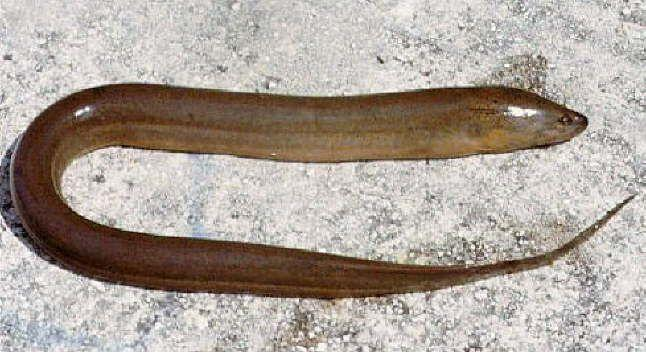Freshwater Eel: (10, 78, 637, 300)
